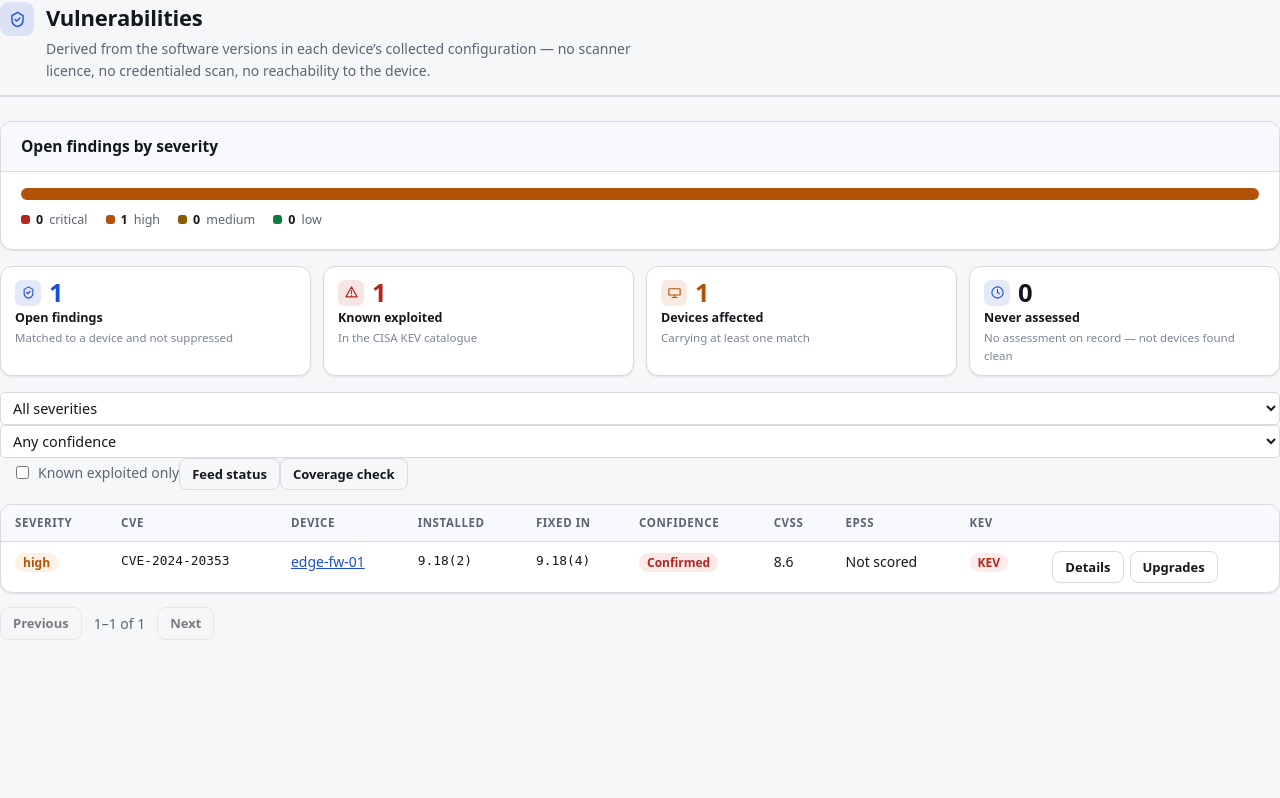
the coverage check › warns that a contradicted platform may be matching nothing
Click the button "Coverage check": (344, 474) [280, 458, 408, 490]
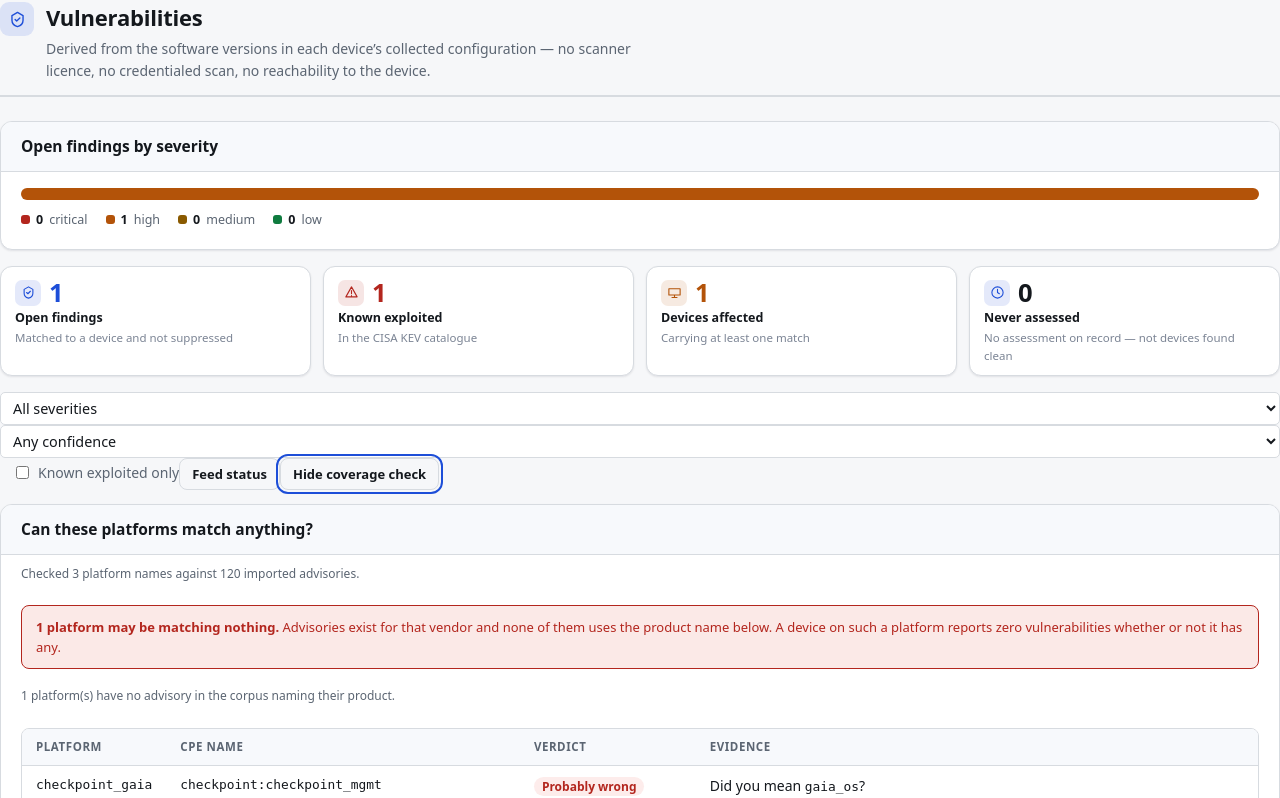
expect the message shows "may be matching nothing": met, box [104, 618, 279, 636]
